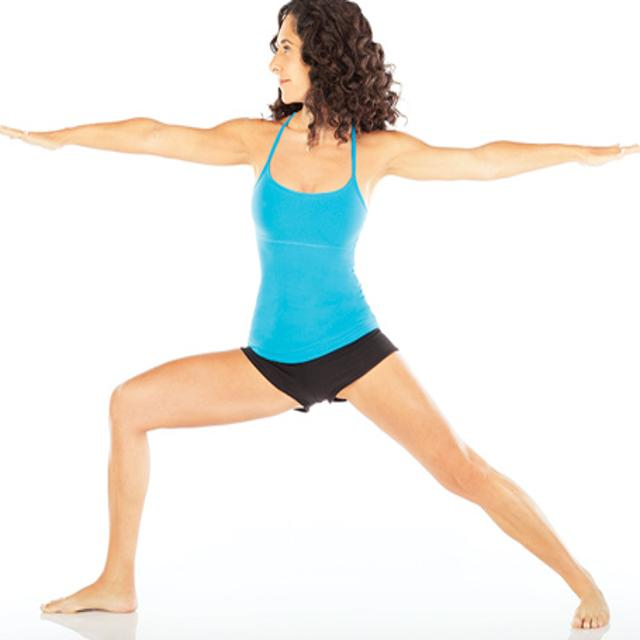Warrior_II: (1, 4, 640, 632)
